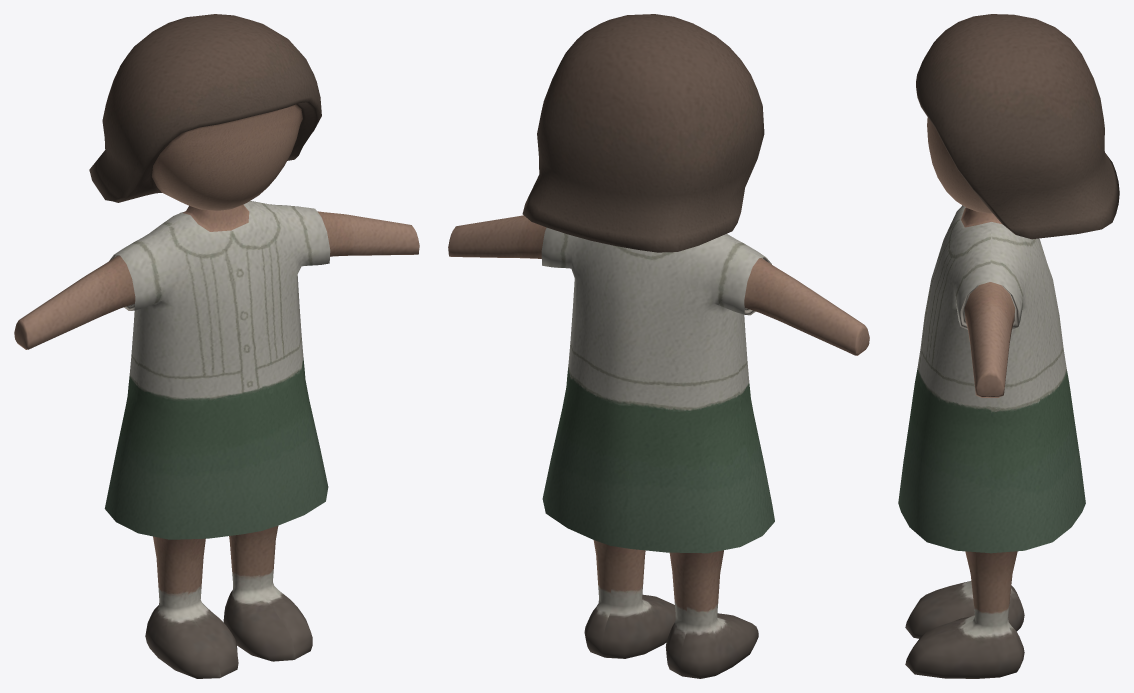
Rendered from npc_student_girl_1.fbx.
3 views of the same model, side by side, from view 1: azimuth 30°, elevation 25°; view 2: azimuth 150°, elevation 25°; view 3: azimuth 270°, elevation 25° (orthographic). The views are drawn at different scales.
Parts seen in each view (by area): view 1: pCube54, pCube50; view 2: pCube54, pCube50; view 3: pCube54, pCube50.
Boxes of the visible parts, x1,y1,x2,y2 form: pCube54: [14, 201, 419, 678]; pCube50: [89, 14, 321, 210]; pCube54: [448, 215, 869, 678]; pCube50: [522, 14, 764, 252]; pCube54: [898, 205, 1085, 678]; pCube50: [916, 14, 1119, 239].
Size of the model in its own units: 9.5 by 14.07 by 4.53.
Materials: 2 (2 with a texture image).
